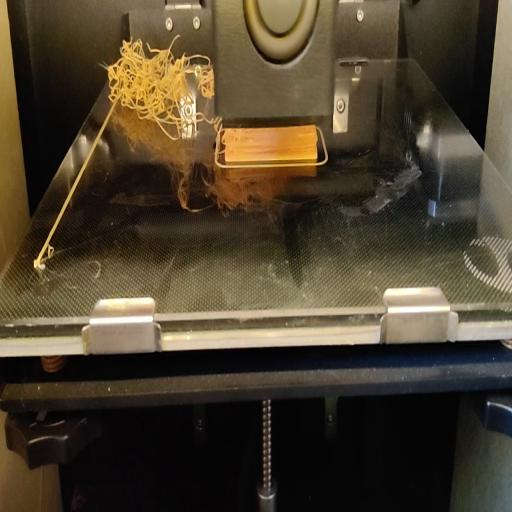spaghetti: (103, 32, 215, 136)
